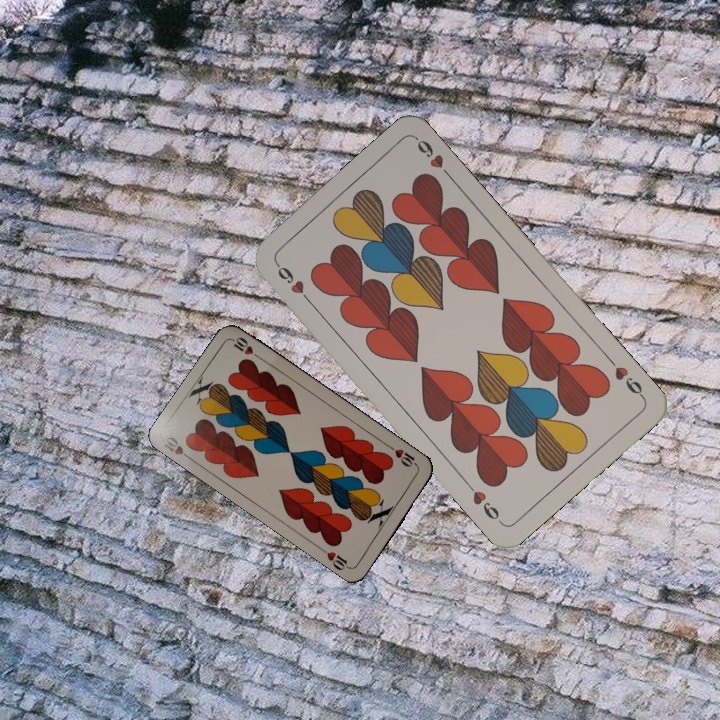H10: (160, 432, 196, 464), (385, 442, 421, 470)
H9: (603, 353, 647, 402), (271, 258, 315, 307)
